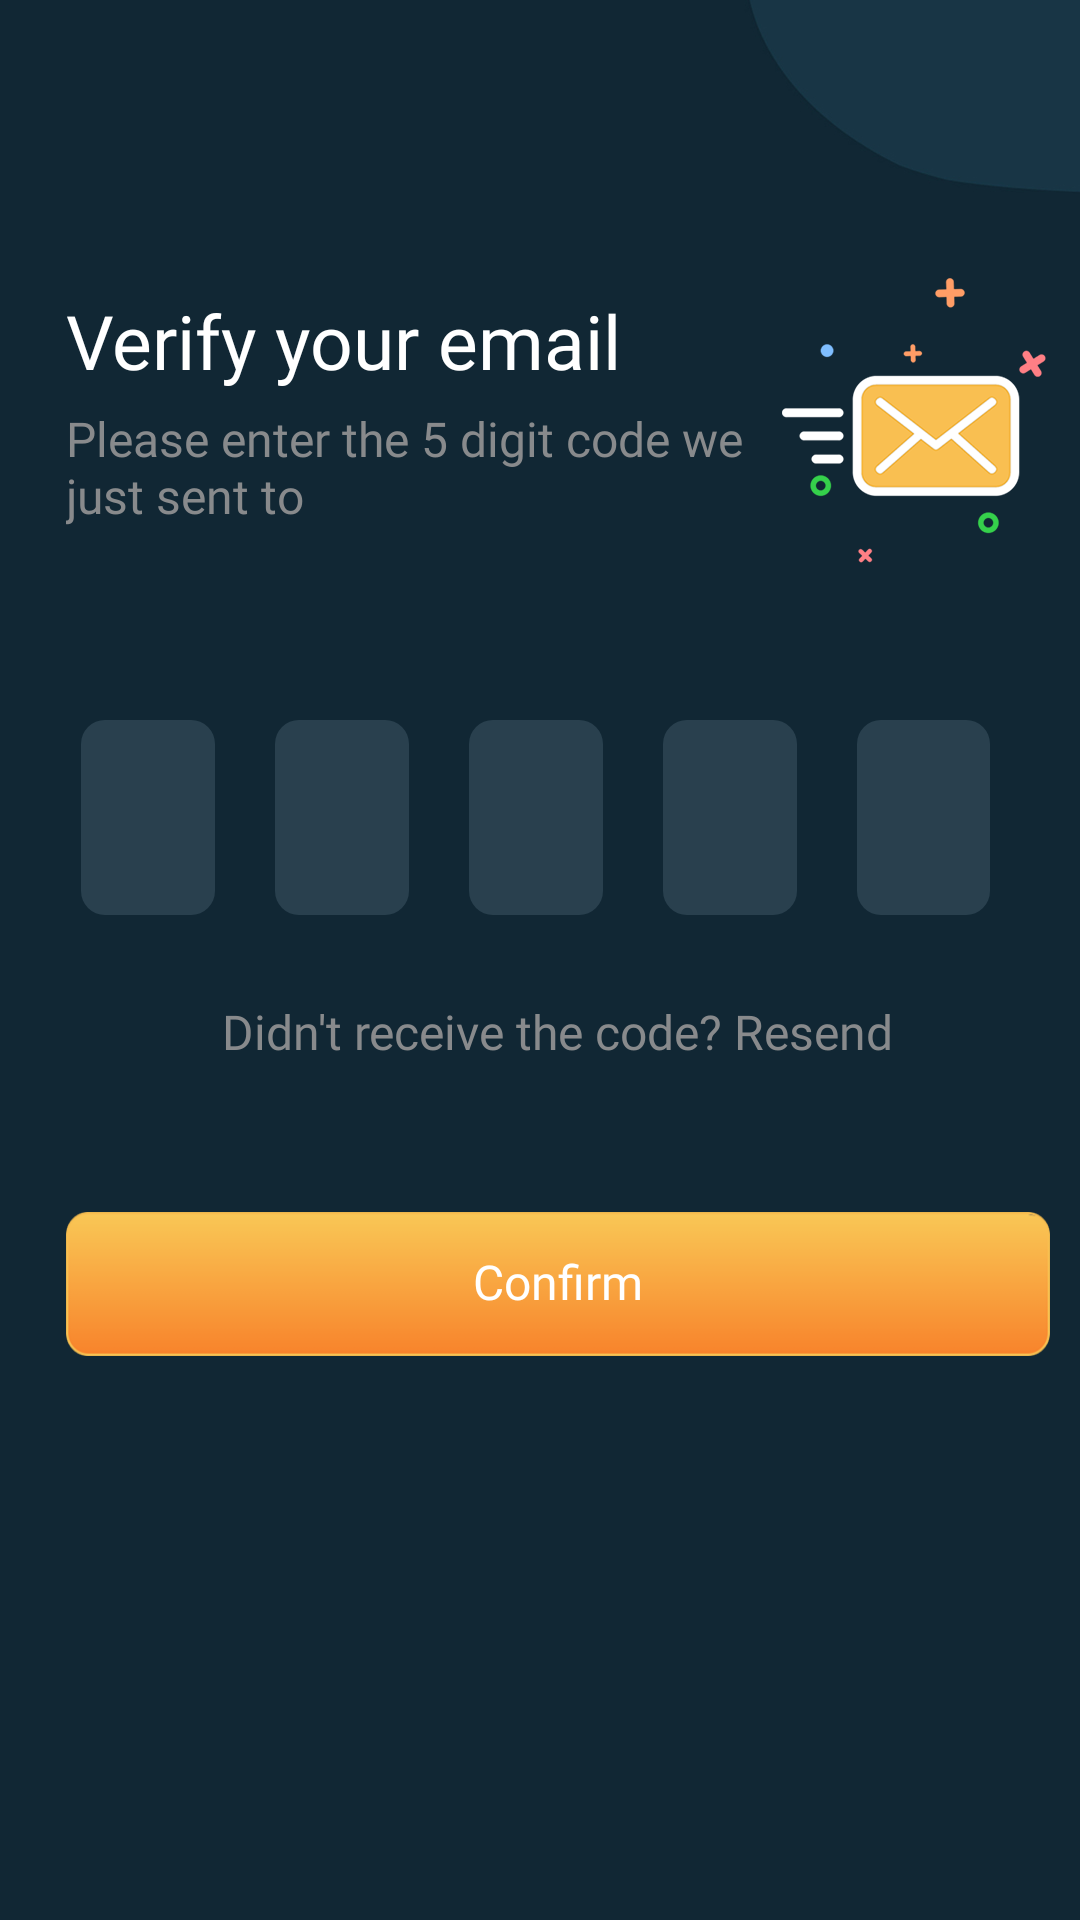

Icons on this 1080px x 1920px Android screen, each with its box as (x1, y1, x2, y2):
message: (782, 278, 1046, 563)
